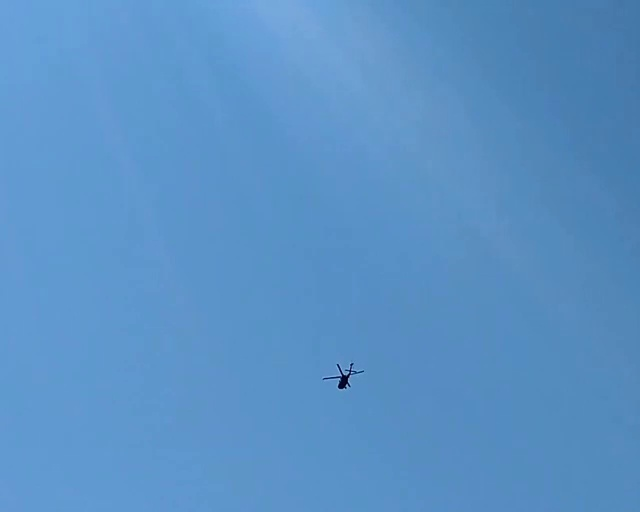HELICOPTER: (322, 360, 365, 390)
